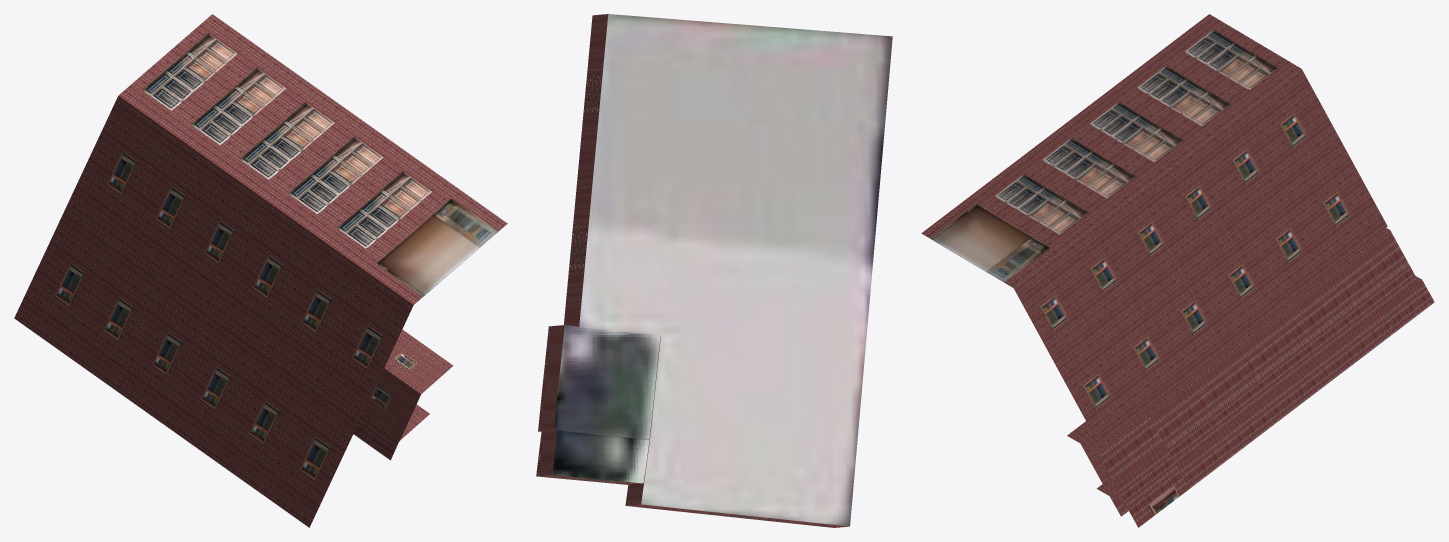
3 renders of one model, left to right at view 1: azimuth 30°, elevation 25°; view 2: azimuth 150°, elevation 25°; view 3: azimuth 270°, elevation 25°, orthographic. The views are drawn at different scales.
Size of the model in its own units: 19.23 by 23.24 by 25.58.
11 materials, 11 textured.
